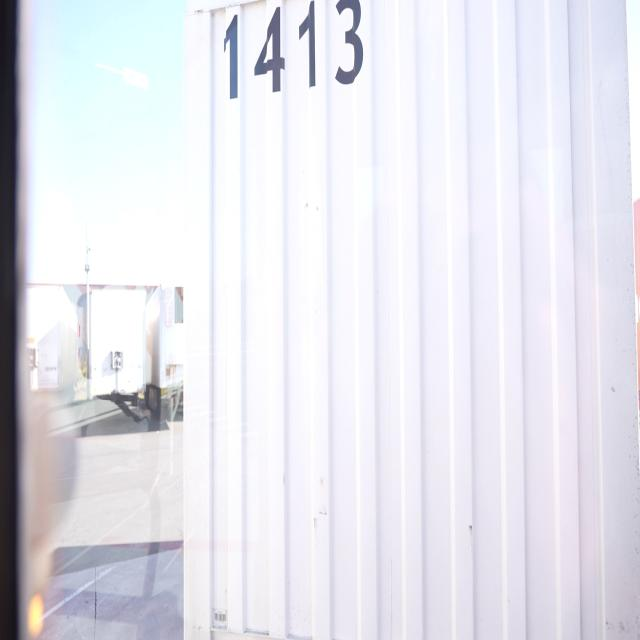Code: (219, 2, 368, 101)
